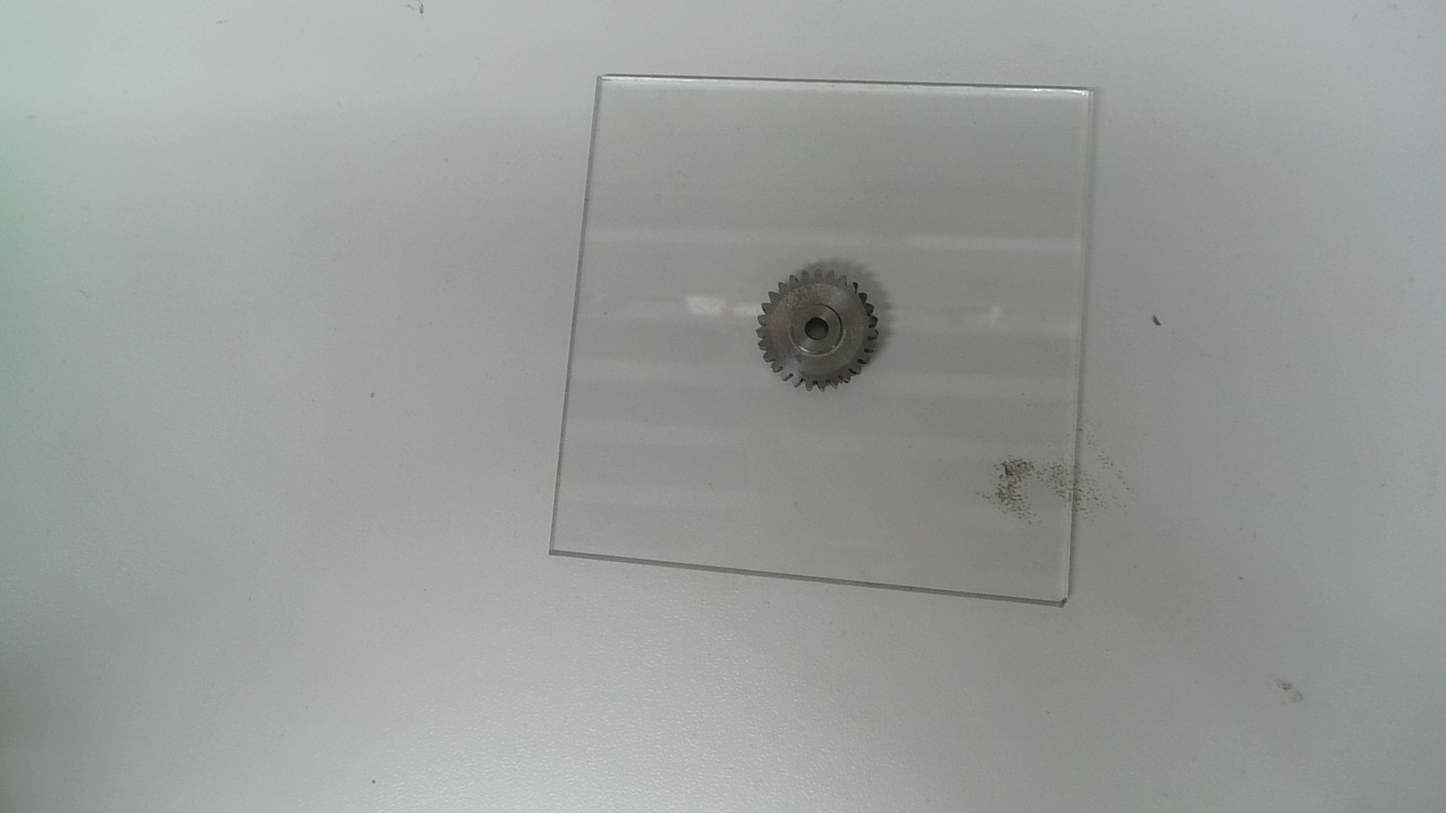gear: (753, 265, 882, 394)
